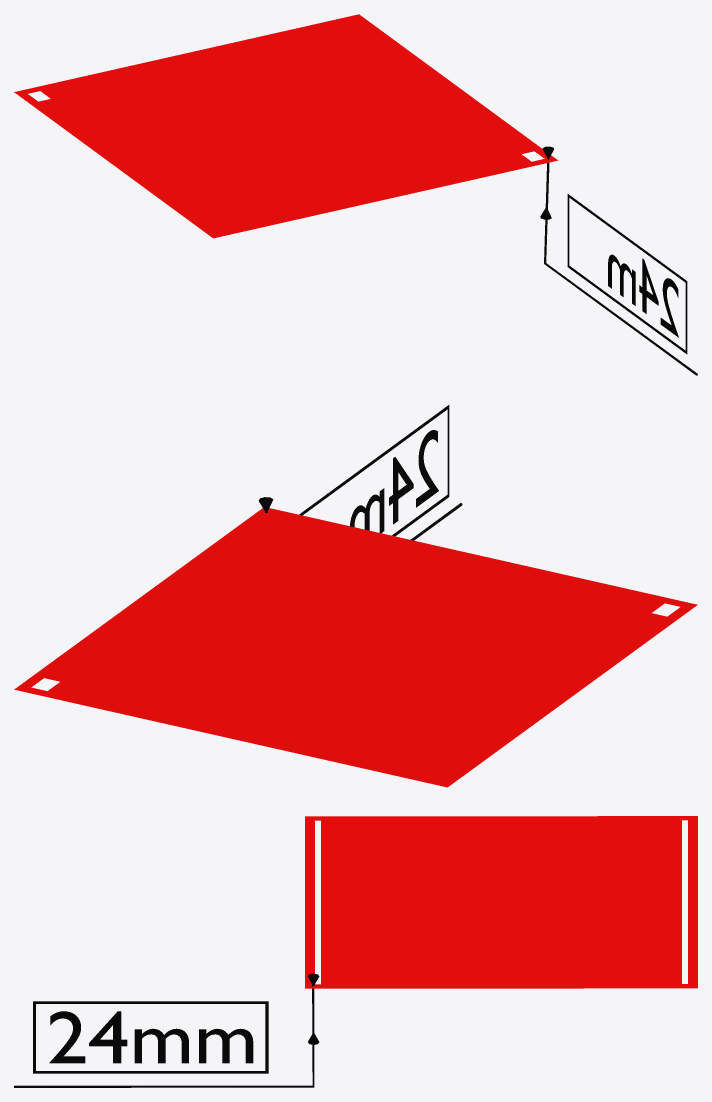
The picture shows the model from 3 angles, top to bottom: view 1: azimuth 30°, elevation 25°; view 2: azimuth 150°, elevation 25°; view 3: azimuth 270°, elevation 25°; orthographic projection. The views are drawn at different scales.
Parts seen in each view (by area): view 1: ZT_loclisation3, Text.005, cadre.002, NurbsPath.005; view 2: ZT_loclisation3, Text.005, cadre.002; view 3: ZT_loclisation3, Text.005, cadre.002, NurbsPath.005.
Boxes of the visible parts, x1,y1,x2,y2 form: ZT_loclisation3: (14,14,557,238); Text.005: (608,254,678,337); cadre.002: (567,194,687,354); NurbsPath.005: (544,157,697,375); ZT_loclisation3: (14,508,697,787); Text.005: (350,430,438,533); cadre.002: (299,405,449,536); ZT_loclisation3: (305,816,697,988); Text.005: (49,1011,253,1063); cadre.002: (33,1001,268,1073); NurbsPath.005: (14,984,314,1087).
Size of the model in its own units: 3.28 by 1.07 by 5.7.
